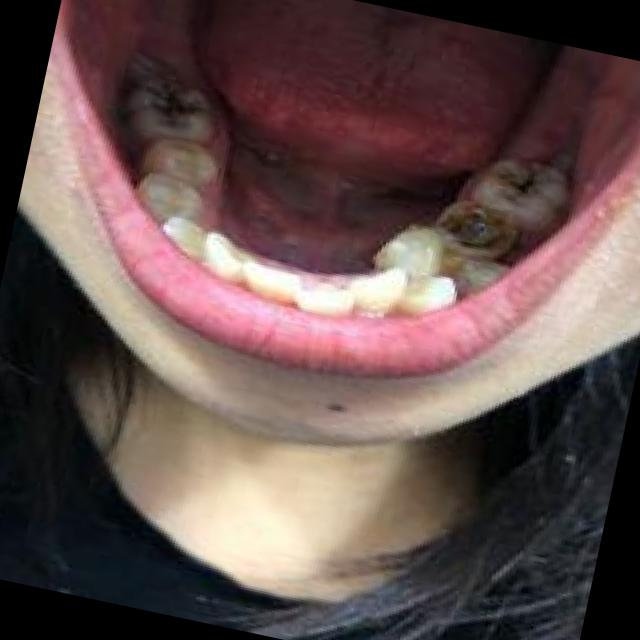Caries: (153, 89, 197, 117), (461, 237, 498, 248), (510, 177, 532, 193), (447, 226, 460, 231)
Tooth: (469, 157, 568, 233), (127, 77, 217, 145), (435, 199, 517, 260), (139, 136, 218, 193), (372, 225, 447, 279), (139, 172, 205, 221), (205, 230, 263, 282), (347, 266, 409, 311), (243, 262, 304, 303), (398, 274, 458, 315), (292, 282, 355, 315), (164, 216, 207, 262)
